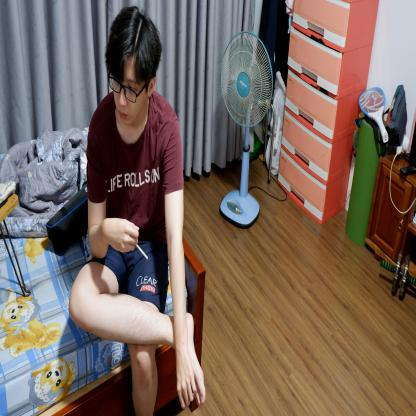cigarette: (134, 242, 150, 262)
person: (66, 2, 186, 413)
